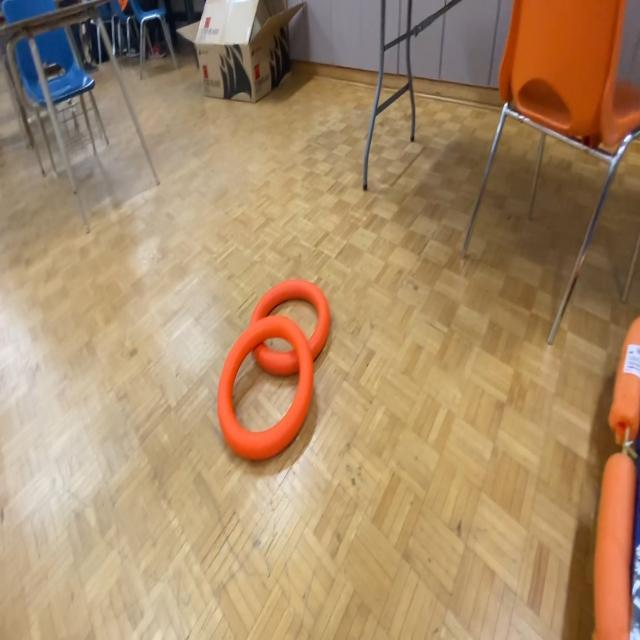note: (216, 314, 314, 463), (248, 278, 332, 376)
